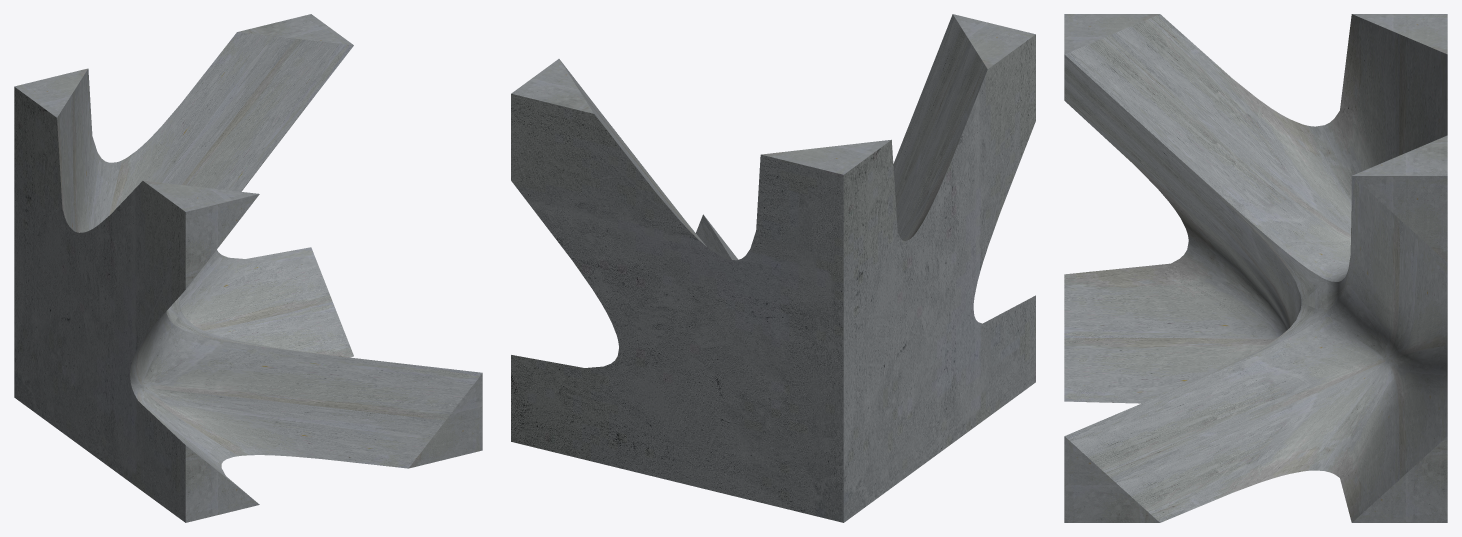
The model's file is module_T3.fbx.
The picture shows the model from 3 angles, left to right: view 1: azimuth 30°, elevation 25°; view 2: azimuth 150°, elevation 25°; view 3: azimuth 270°, elevation 25°; orthographic projection. The views are drawn at different scales.
Visible parts, largest first — view 1: modules; view 2: modules; view 3: modules.
Part boxes in pixels (x1,y1,x2,y2): modules: (14, 14, 482, 522); modules: (511, 14, 1035, 522); modules: (1064, 14, 1447, 522).
Size of the model in its own units: 1000 by 1000 by 1000.
1 material, 1 textured.
